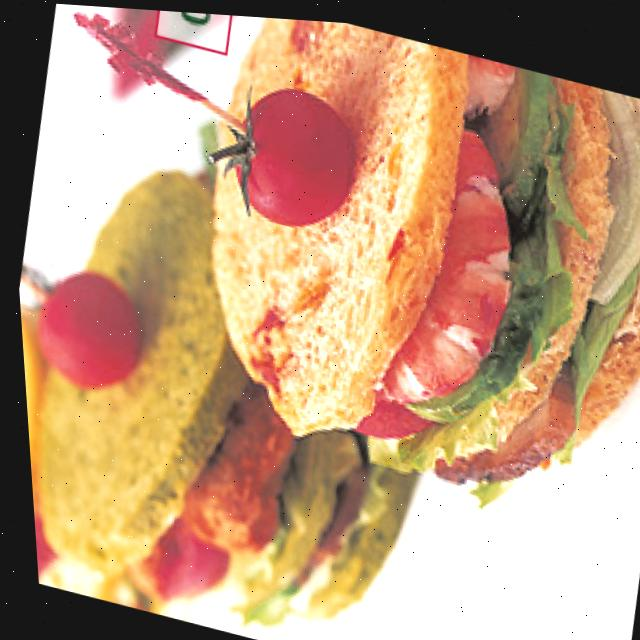三明治: (312, 17, 640, 333)
